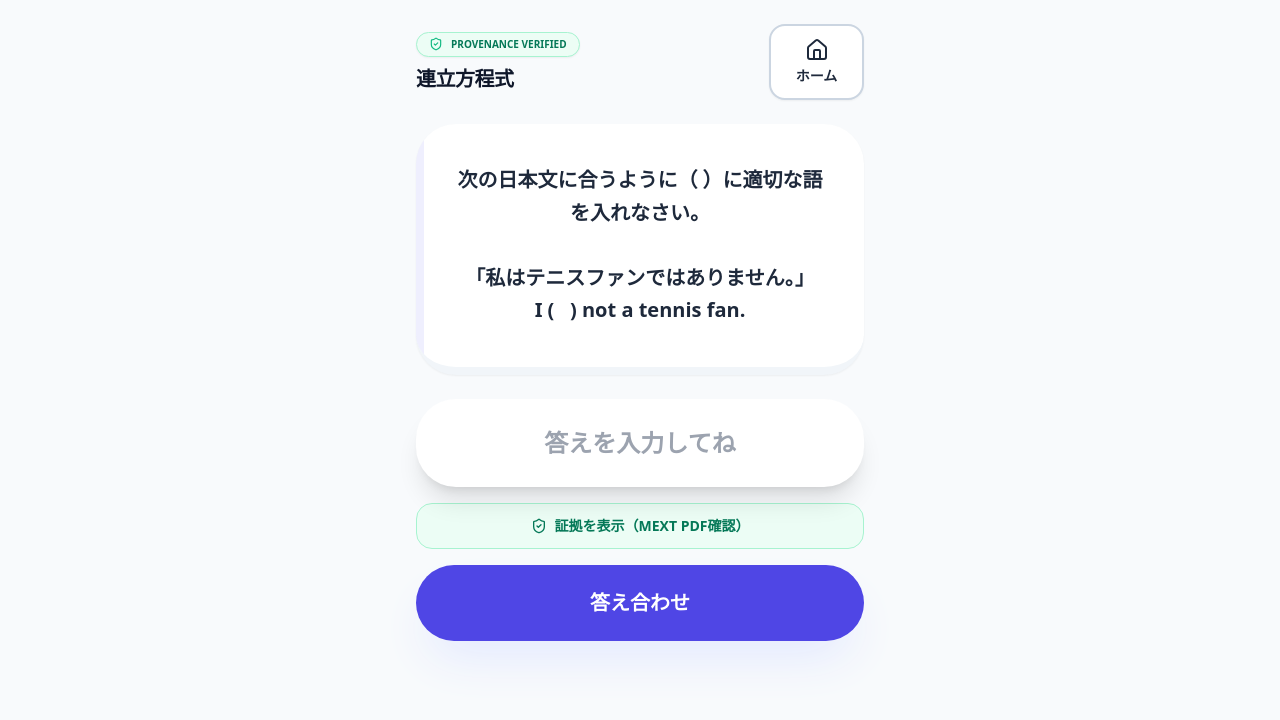
Test: Quiz コンポーネント › クイズ画面（screen="quiz"） › インタラクション: Evidence Viewer の閉じるボタンで閉じる
Click the button "証拠を表示（MEXT PDF確認）" at (640, 526), box [416,502,864,548]
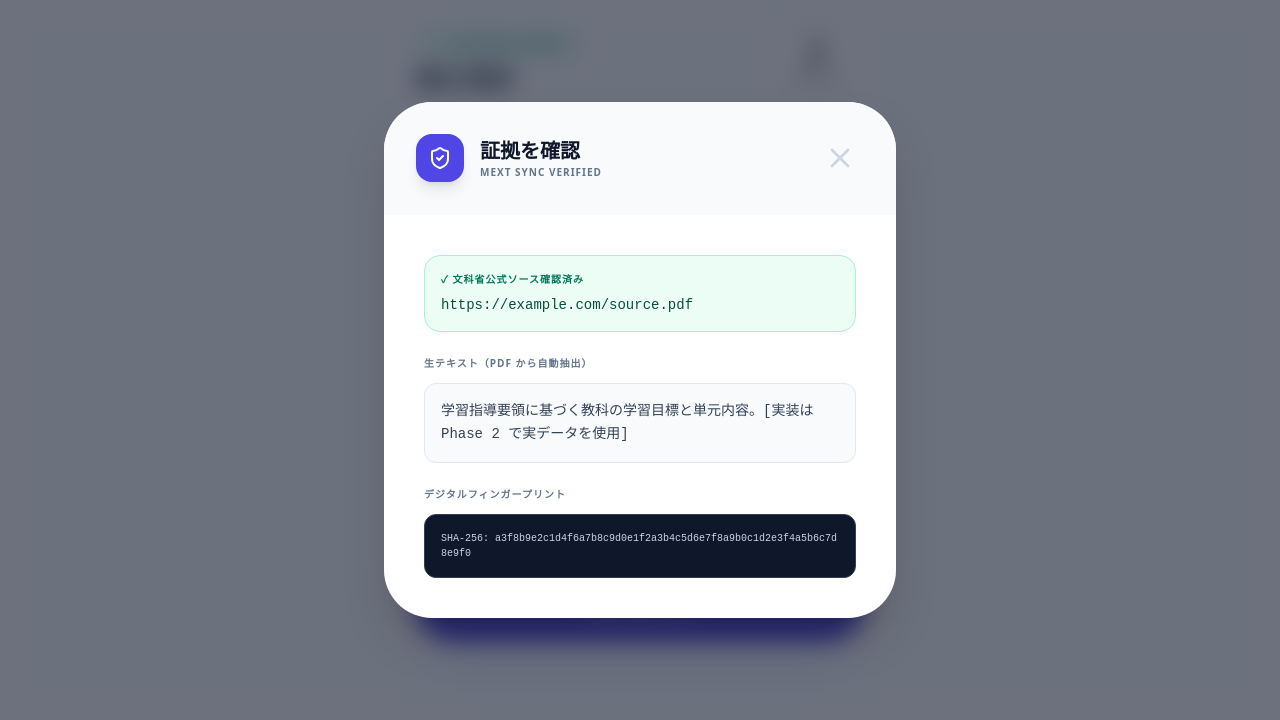
Result: the heading "証拠を確認" is shown at [480,137,580,164]
Click the button named "閉じる" at (840, 158), box [816,134,864,182]
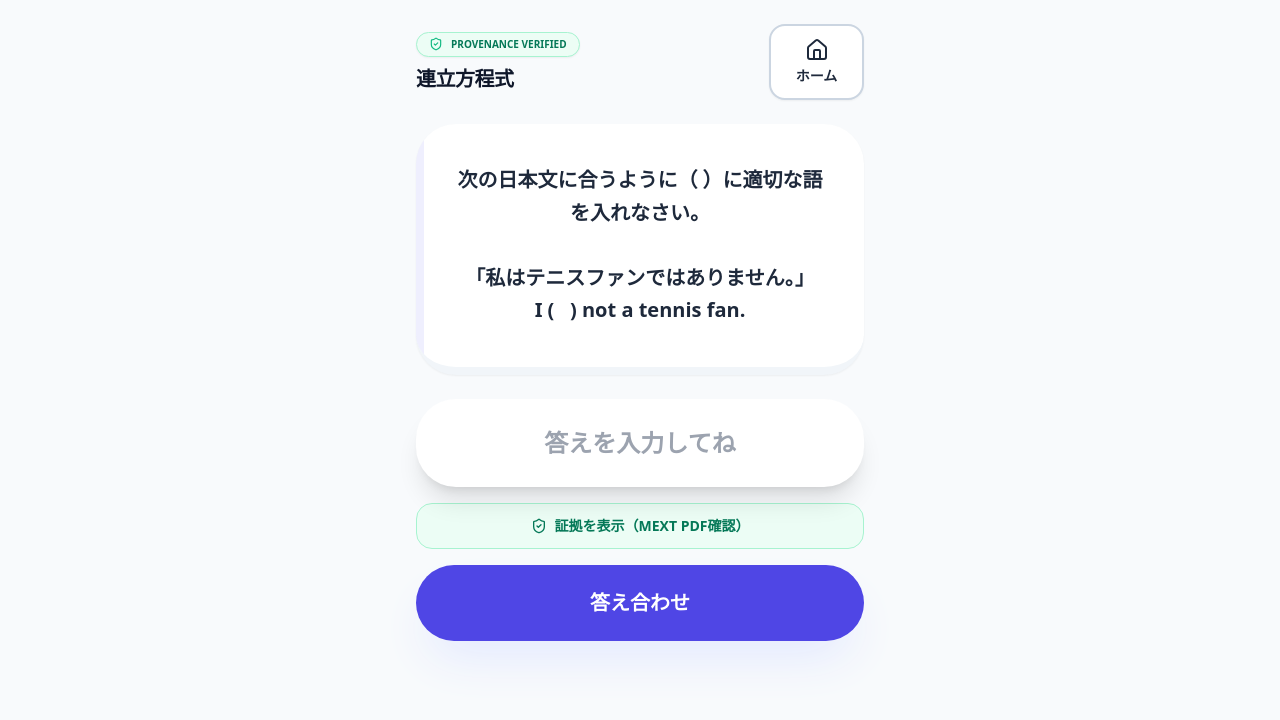
Result: the heading "証拠を確認" is gone
